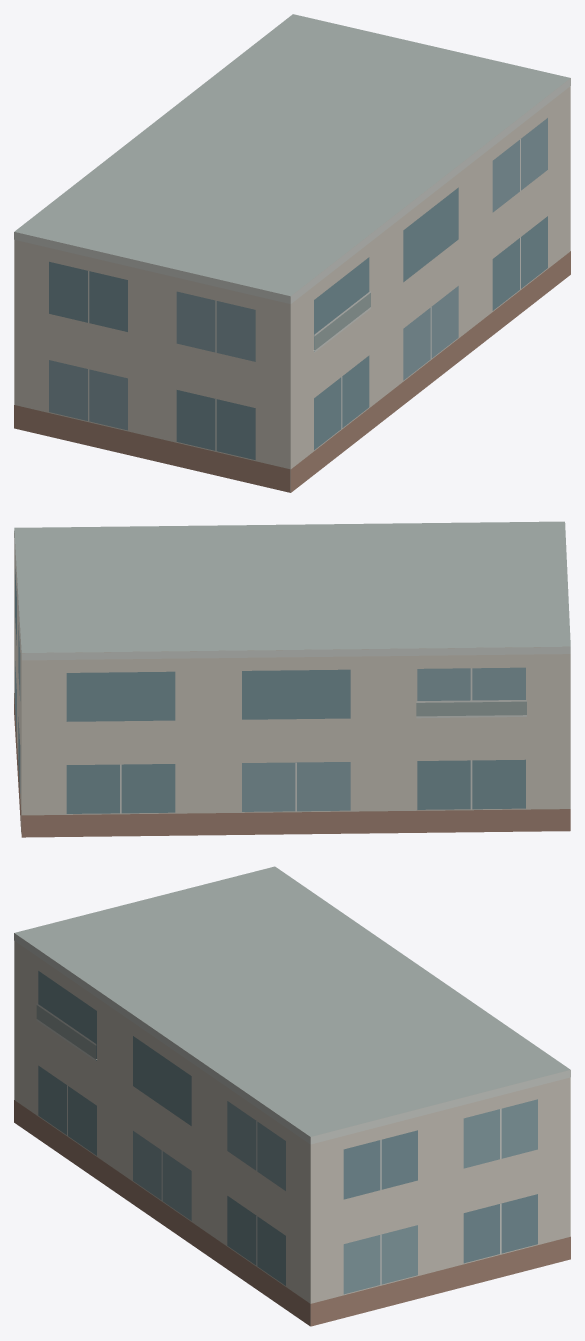
File: survey-upis-32671813.glb
The picture shows the model from 3 angles, top to bottom: view 1: azimuth 30°, elevation 25°; view 2: azimuth 150°, elevation 25°; view 3: azimuth 270°, elevation 25°; orthographic projection. The views are drawn at different scales.
Parts seen in each view (by area): view 1: survey-upis-32671813.tmp; view 2: survey-upis-32671813.tmp; view 3: survey-upis-32671813.tmp.
Part boxes in pixels (left/top/right/bottom): survey-upis-32671813.tmp: left=14, top=14, right=570, bottom=492; survey-upis-32671813.tmp: left=14, top=521, right=570, bottom=837; survey-upis-32671813.tmp: left=14, top=866, right=570, bottom=1326.
Size of the model in its own units: 18.69 by 6.1 by 16.25.
